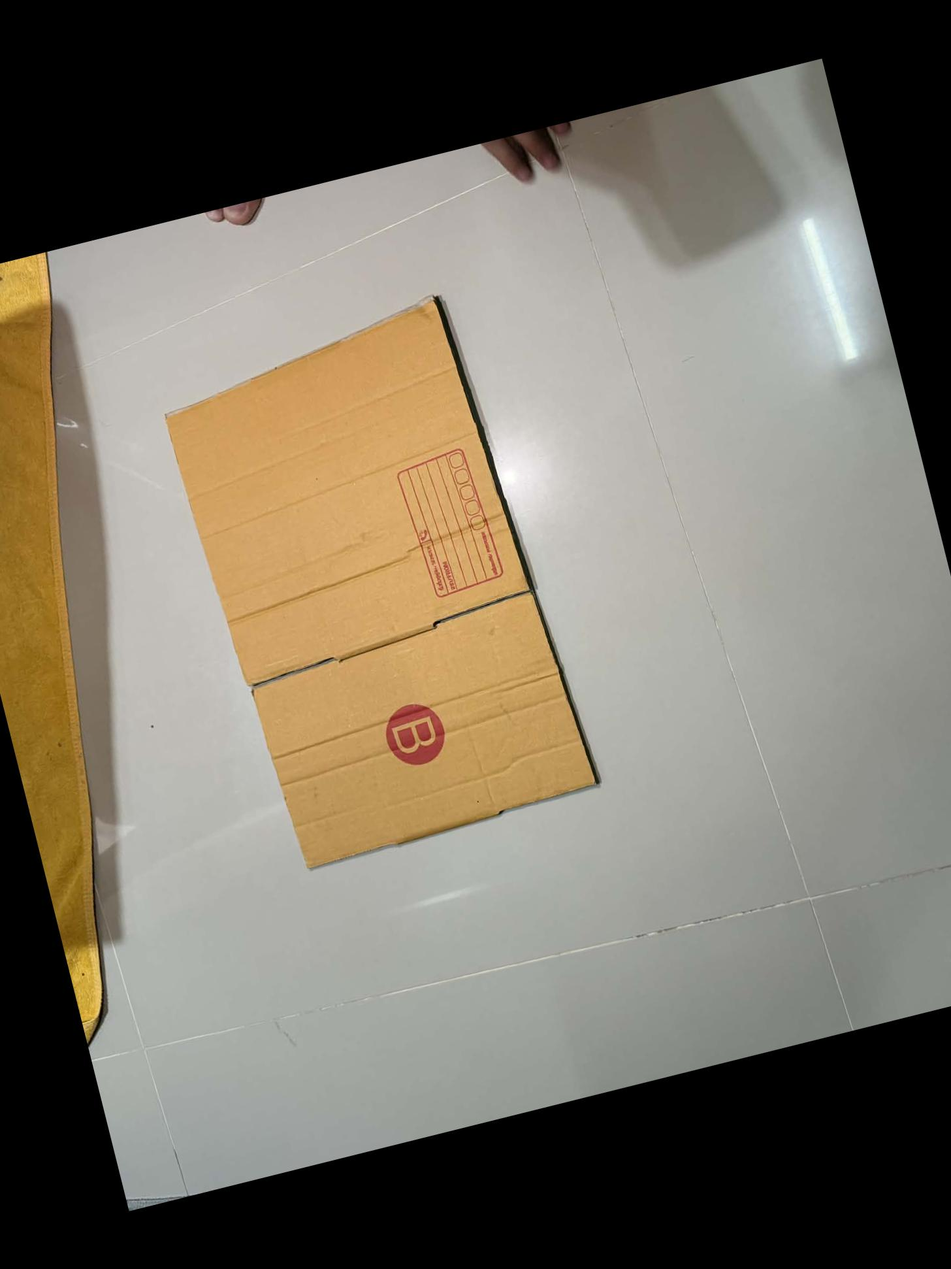box: (385, 436, 514, 613), (368, 691, 452, 773)
class0: (139, 239, 621, 895)
